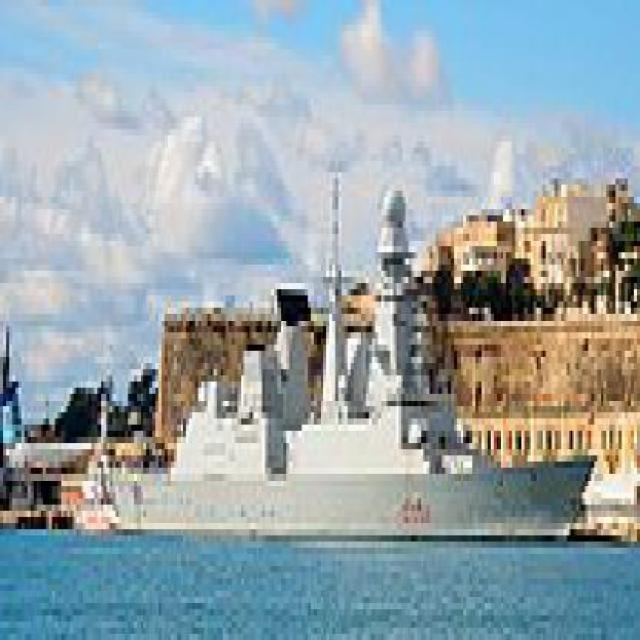warship2: (102, 112, 605, 561)
